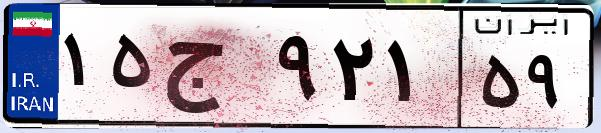1: (385, 28, 445, 110), (57, 26, 110, 100)
2: (330, 28, 385, 110)
5: (475, 38, 525, 113), (110, 28, 158, 98)
9: (270, 28, 330, 110), (525, 38, 570, 115)
ج: (158, 20, 270, 120)
